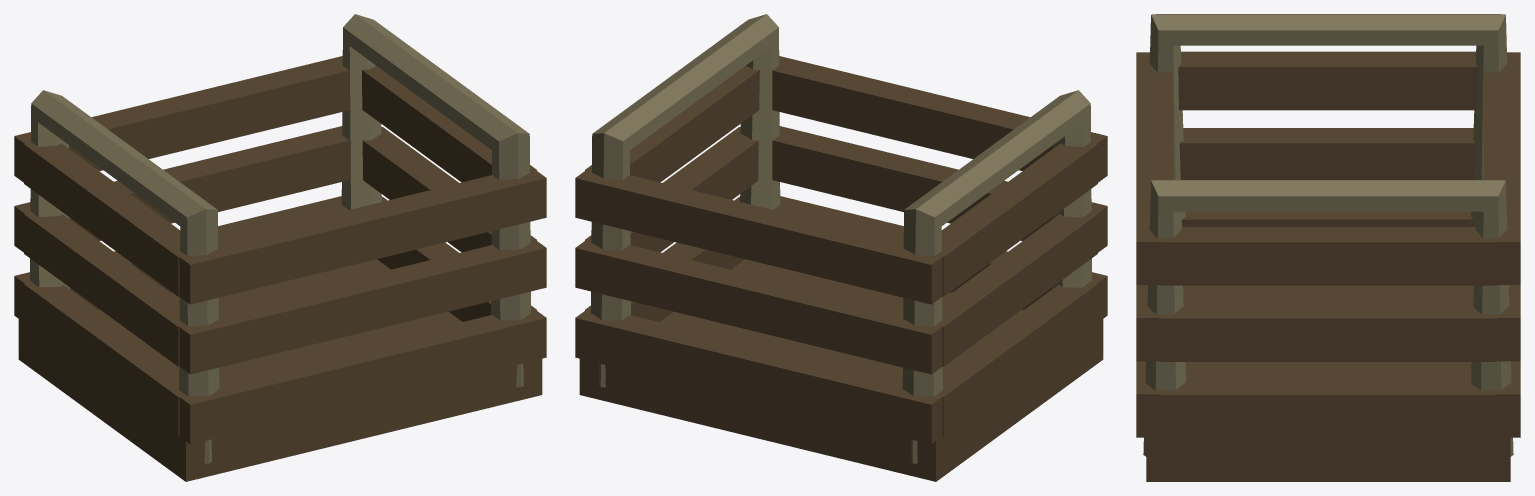
Rendered from strange_basket.glb.
3 renders of one model, left to right at view 1: azimuth 30°, elevation 25°; view 2: azimuth 150°, elevation 25°; view 3: azimuth 270°, elevation 25°, orthographic. The views are drawn at different scales.
Visible parts, largest first — view 1: strange_basket; view 2: strange_basket; view 3: strange_basket.
Boxes of the visible parts, x1,y1,x2,y2 form: strange_basket: [14, 14, 546, 481]; strange_basket: [575, 14, 1107, 481]; strange_basket: [1136, 14, 1520, 481].
Size of the model in its own units: 0.805 by 0.57 by 0.685.
